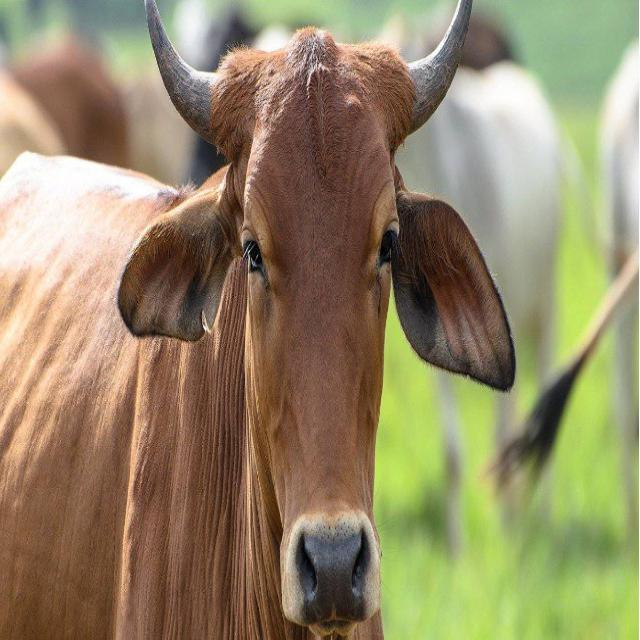Ox: (0, 5, 484, 640)
